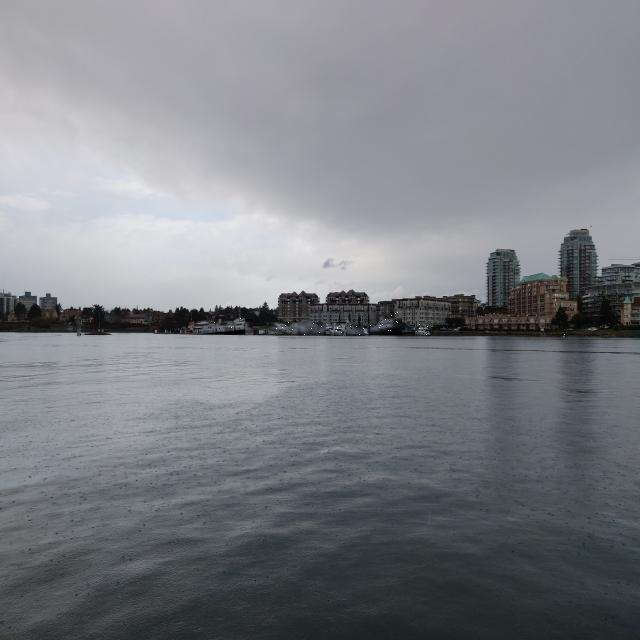boat: (370, 312, 402, 335), (199, 318, 245, 334), (224, 319, 253, 335), (298, 322, 326, 335), (270, 322, 294, 334), (285, 323, 309, 334), (329, 322, 346, 336), (343, 326, 364, 336), (415, 324, 431, 336)
mark: (77, 321, 81, 336), (563, 334, 565, 338)
